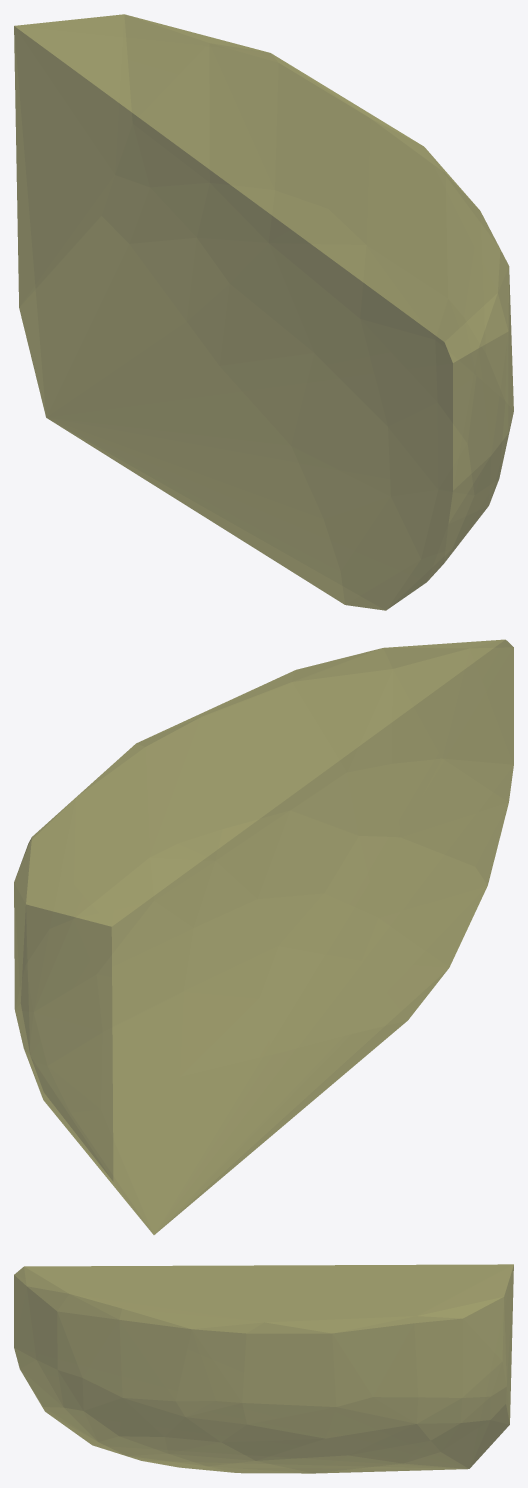
3 views of the same model, one above another, from view 1: azimuth 30°, elevation 25°; view 2: azimuth 150°, elevation 25°; view 3: azimuth 270°, elevation 25° (orthographic). The views are drawn at different scales.
Parts seen in each view (by area): view 1: Shape_IndexedFaceSet.006_Shape_IndexedFaceSet.15110; view 2: Shape_IndexedFaceSet.006_Shape_IndexedFaceSet.15110; view 3: Shape_IndexedFaceSet.006_Shape_IndexedFaceSet.15110.
Part boxes in pixels (x1=…): Shape_IndexedFaceSet.006_Shape_IndexedFaceSet.15110: x1=14, y1=14, x2=513, y2=610; Shape_IndexedFaceSet.006_Shape_IndexedFaceSet.15110: x1=14, y1=639, x2=513, y2=1234; Shape_IndexedFaceSet.006_Shape_IndexedFaceSet.15110: x1=14, y1=1264, x2=513, y2=1473.
Size of the model in its own units: 0.218 by 0.3685 by 0.8082.
